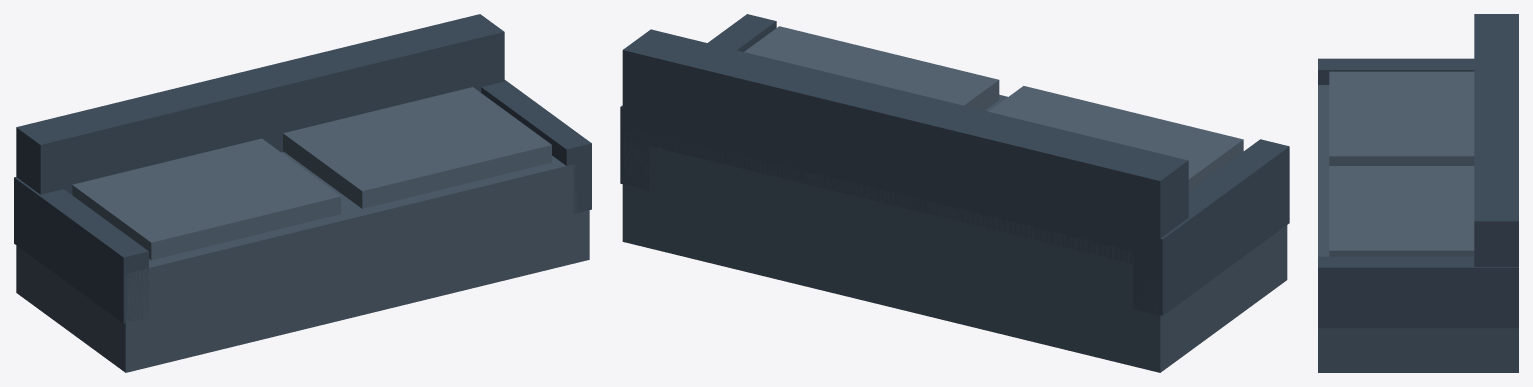
Rendered from modern-sofa.glb.
The picture shows the model from 3 angles, left to right: view 1: azimuth 30°, elevation 25°; view 2: azimuth 150°, elevation 25°; view 3: azimuth 270°, elevation 25°; orthographic projection. The views are drawn at different scales.
Size of the model in its own units: 2.22 by 0.775 by 0.9.
